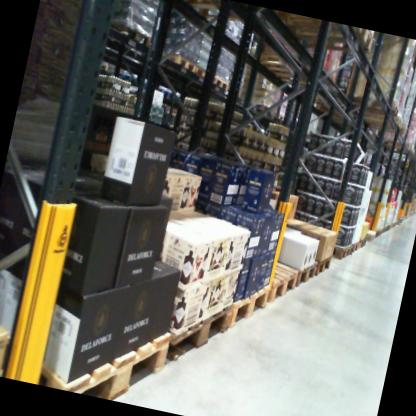pallet: (0, 251, 178, 407), (149, 286, 236, 384), (225, 274, 270, 330), (251, 254, 299, 303), (257, 51, 321, 83), (101, 18, 158, 51), (346, 89, 401, 118), (285, 248, 320, 291), (156, 44, 200, 77), (353, 109, 406, 136), (301, 250, 333, 286), (322, 239, 351, 266), (191, 57, 217, 87), (160, 82, 178, 105), (210, 77, 230, 95), (342, 236, 360, 256), (361, 226, 377, 242), (354, 236, 368, 252), (96, 62, 110, 74)
